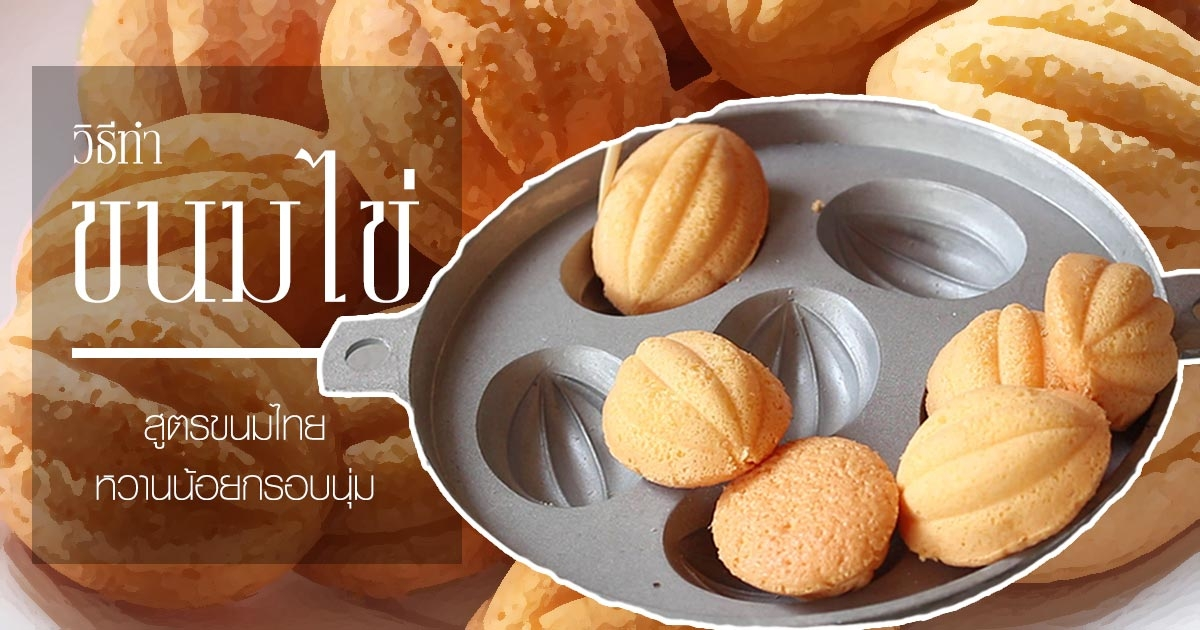kanomkai: (881, 373, 1128, 584), (583, 318, 802, 494), (592, 109, 768, 322), (712, 421, 905, 611)
